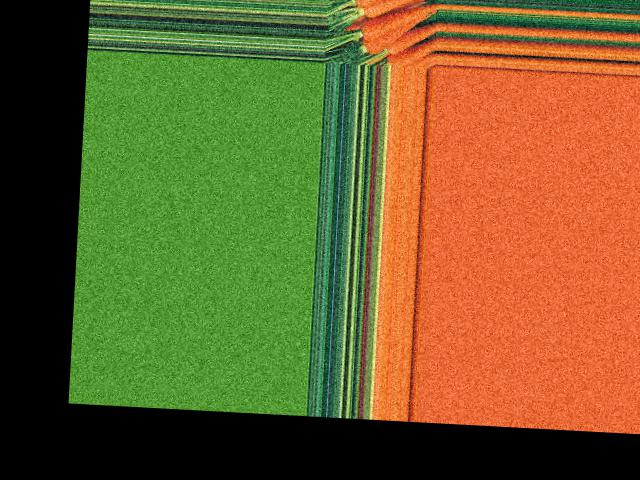carrot: (380, 24, 435, 60)
